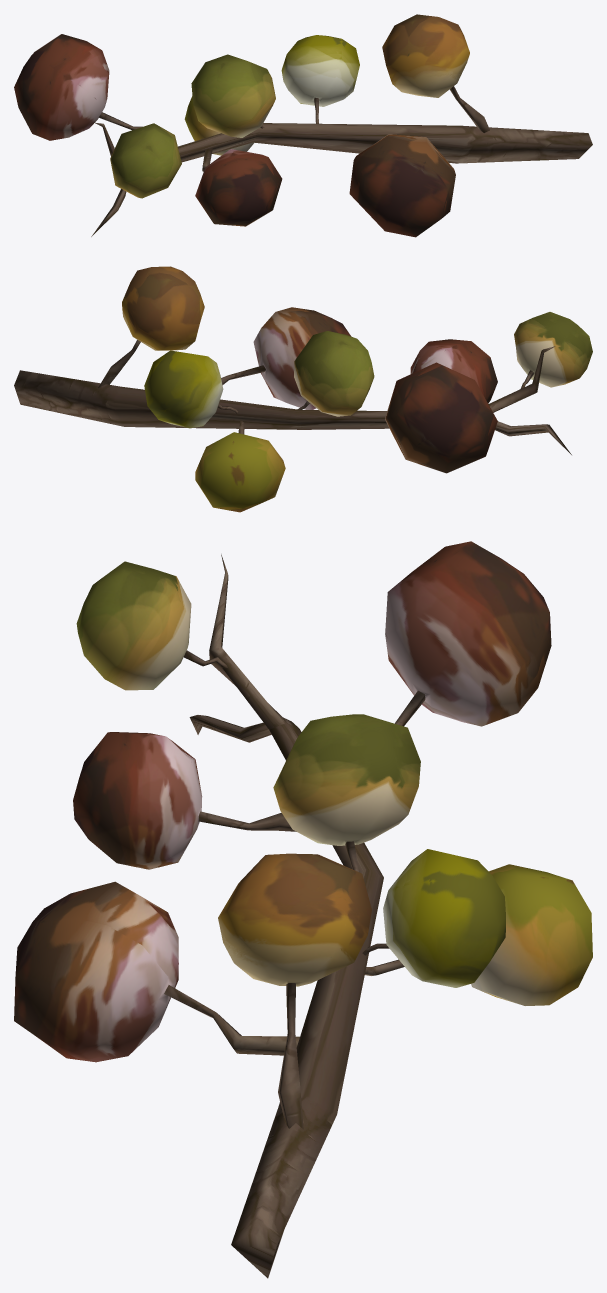
File: Sapindus_Fruit.fbx
3 views of the same model, one above another, from view 1: azimuth 30°, elevation 25°; view 2: azimuth 150°, elevation 25°; view 3: azimuth 270°, elevation 25° (orthographic). The views are drawn at different scales.
Parts seen in each view (by area): view 1: sapindus_fruit_LOD0; view 2: sapindus_fruit_LOD0; view 3: sapindus_fruit_LOD0.
Boxes of the visible parts, x1=… form: sapindus_fruit_LOD0: x1=14, y1=14, x2=592, y2=237; sapindus_fruit_LOD0: x1=14, y1=266, x2=592, y2=512; sapindus_fruit_LOD0: x1=14, y1=541, x2=592, y2=1278.
Size of what is drawn, in the model's own units: 94.47 by 33.7 by 52.32.
Materials: 1 (1 with a texture image).
